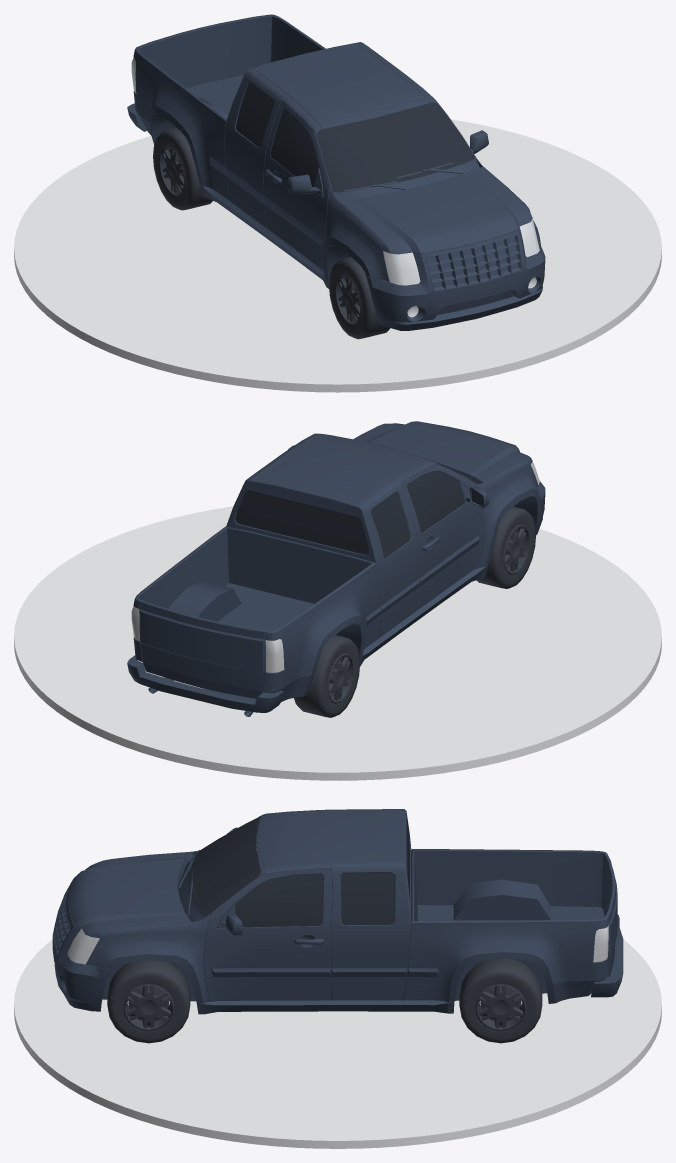
Rendered from pickup.glb.
3 renders of one model, top to bottom at view 1: azimuth 30°, elevation 25°; view 2: azimuth 150°, elevation 25°; view 3: azimuth 270°, elevation 25°, orthographic.
Parts seen in each view (by area): view 1: turntable, Pickup Body_Body_0, Pickup Body_Glass_0, Wheel_E002_Wheel_0, Wheel_E003_Wheel_0, Pickup Body_Optics_0; view 2: turntable, Pickup Body_Body_0, Pickup Body_Glass_0, Wheel_E003_Wheel_0, Wheel_E002_Wheel_0, Pickup Body_Optics_0; view 3: Pickup Body_Body_0, turntable, Pickup Body_Glass_0, Wheel_E001_Wheel_0, Wheel_E_Wheel_0, Pickup Body_Optics_0.
Part boxes in pixels (box(x1,y1,x2,y2)): turntable: box(14, 119, 661, 392); Pickup Body_Body_0: box(127, 14, 545, 330); Pickup Body_Glass_0: box(235, 82, 475, 192); Wheel_E002_Wheel_0: box(329, 257, 390, 339); Wheel_E003_Wheel_0: box(153, 127, 212, 210); Pickup Body_Optics_0: box(131, 57, 539, 317); turntable: box(14, 506, 661, 780); Pickup Body_Body_0: box(127, 421, 545, 716); Pickup Body_Glass_0: box(235, 445, 474, 557); Wheel_E003_Wheel_0: box(294, 635, 359, 717); Wheel_E002_Wheel_0: box(477, 506, 535, 588); Pickup Body_Optics_0: box(131, 461, 539, 672); Pickup Body_Body_0: box(52, 809, 623, 1014); turntable: box(14, 939, 661, 1148); Pickup Body_Glass_0: box(188, 816, 409, 927); Wheel_E001_Wheel_0: box(459, 958, 542, 1043); Wheel_E_Wheel_0: box(107, 960, 190, 1043); Pickup Body_Optics_0: box(68, 925, 608, 964).
Bounding box in the file's own units: 5.88 × 1.78 × 5.88.
